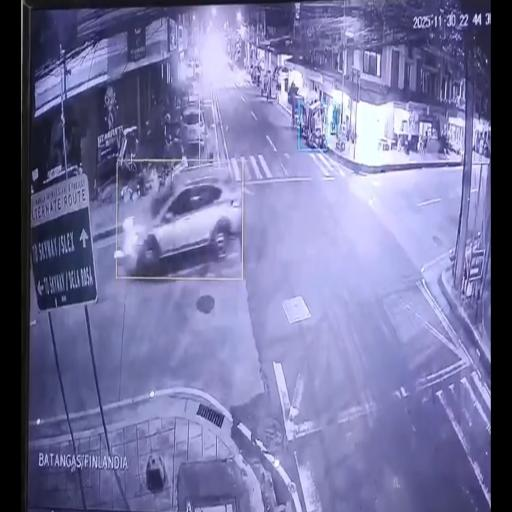Car: (118, 160, 244, 282)
